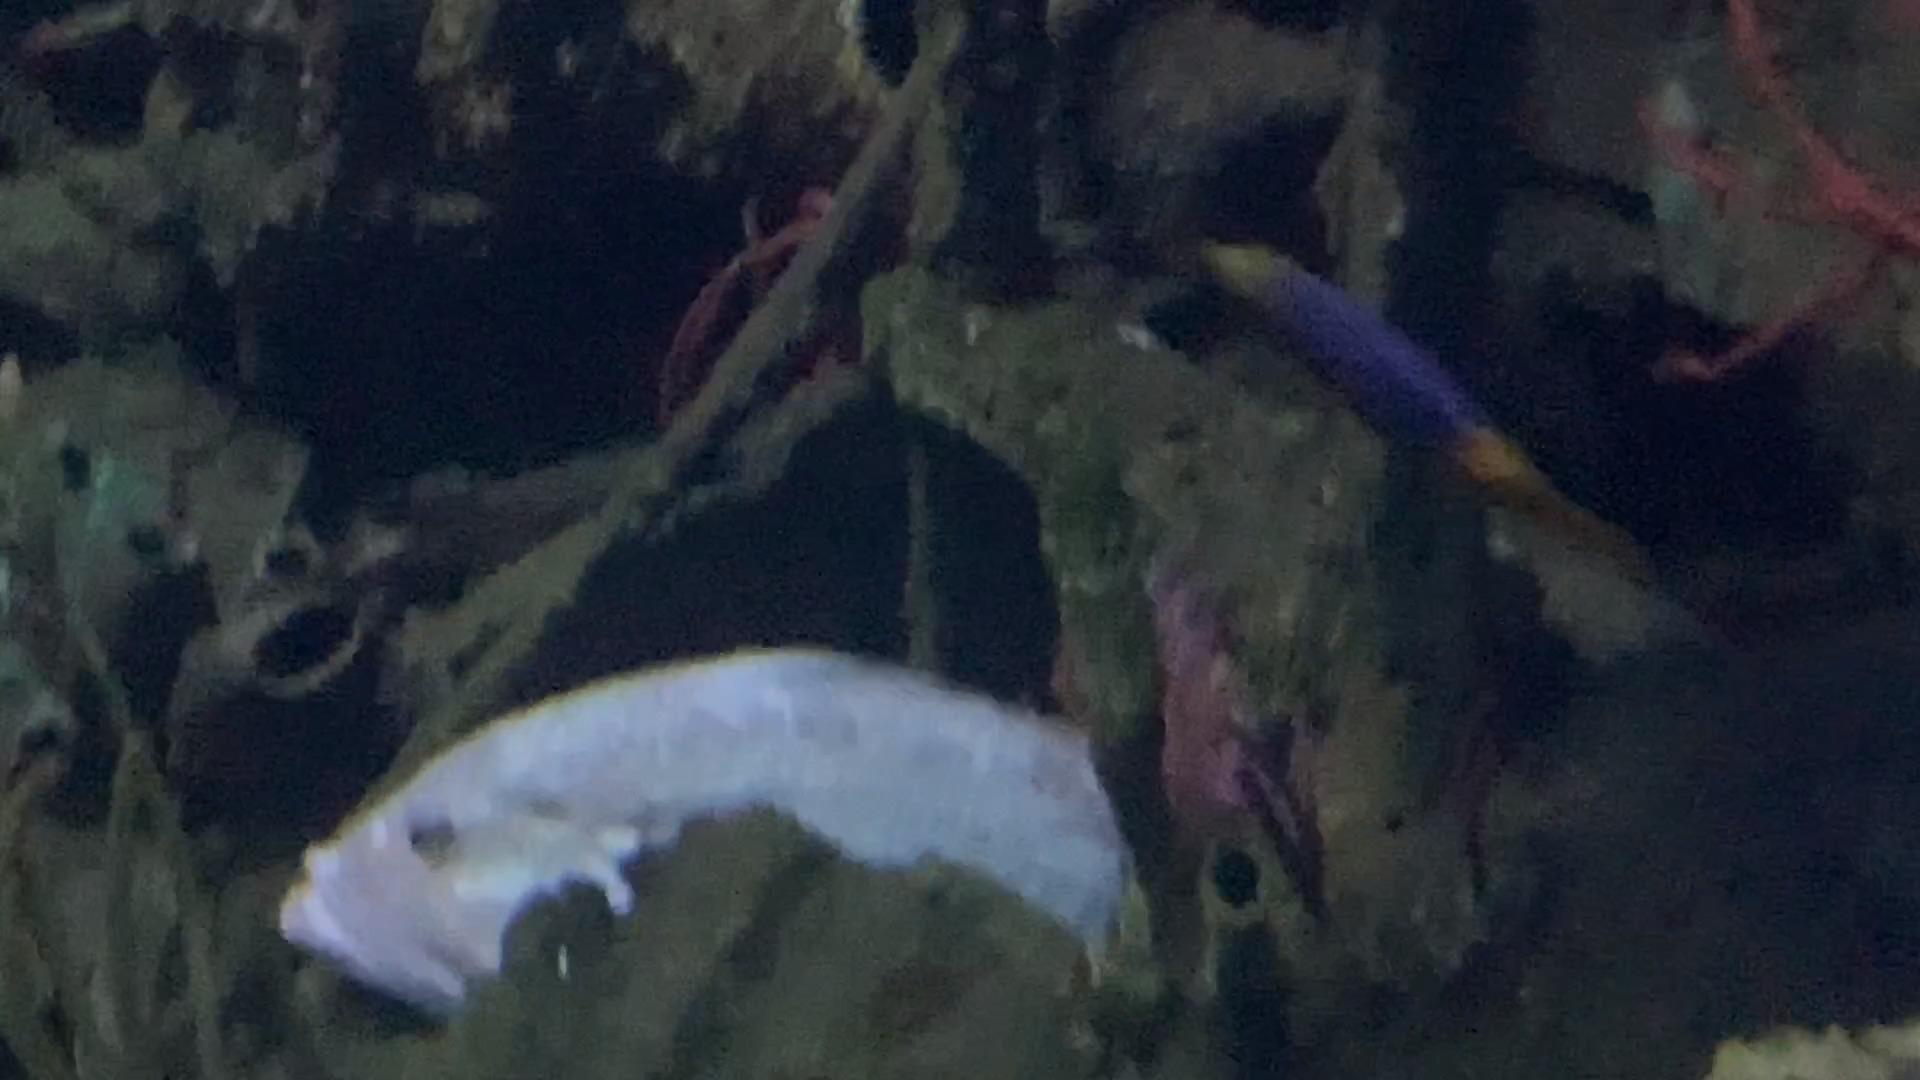fish: (280, 640, 1145, 1023), (1195, 229, 1664, 592)
